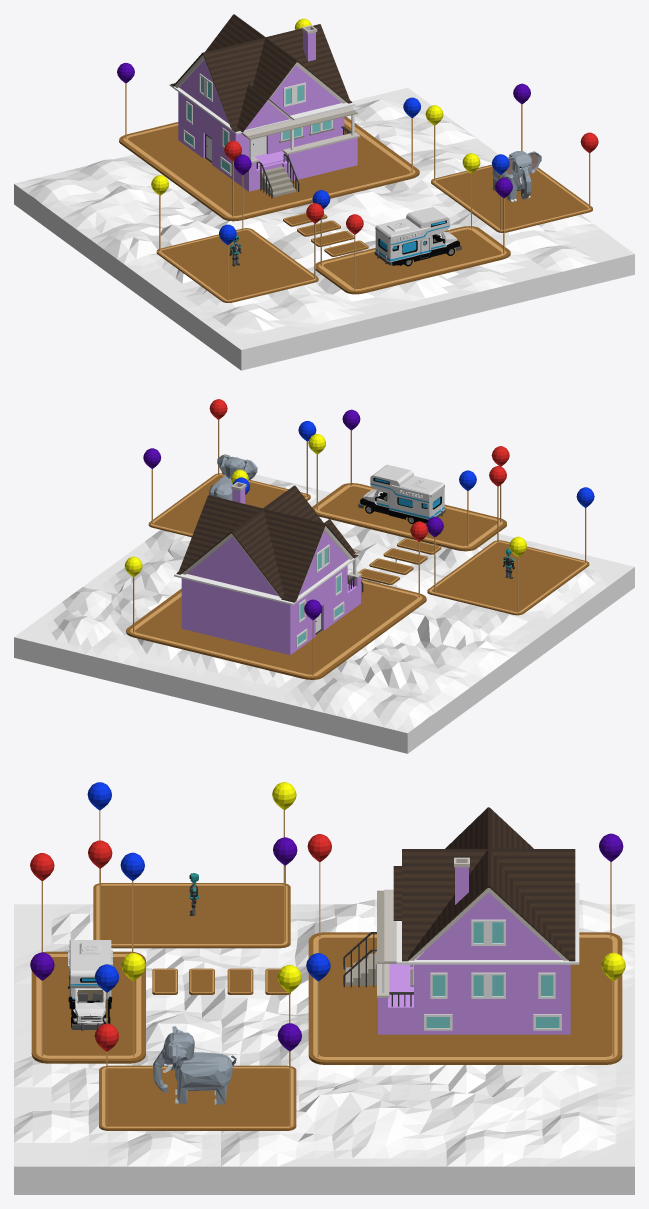
3 views of the same model, one above another, from view 1: azimuth 30°, elevation 25°; view 2: azimuth 150°, elevation 25°; view 3: azimuth 270°, elevation 25° (orthographic). The views are drawn at different scales.
Visible parts, largest first — view 1: Cube.013, Cube.391, VEHICLES_CAMPER, ANIMAL_ELEFANTE; view 2: Cube.013, Cube.391, VEHICLES_CAMPER, ANIMAL_ELEFANTE; view 3: Cube.013, Cube.391, ANIMAL_ELEFANTE, VEHICLES_CAMPER.
Part boxes in pixels (<box>): Cube.013: <box>14,18,634,370</box>; Cube.391: <box>169,14,360,198</box>; VEHICLES_CAMPER: <box>374,207,461,266</box>; ANIMAL_ELEFANTE: <box>492,151,541,202</box>; Cube.013: <box>14,399,634,753</box>; Cube.391: <box>174,482,363,655</box>; VEHICLES_CAMPER: <box>358,464,445,524</box>; ANIMAL_ELEFANTE: <box>209,454,257,500</box>; Cube.013: <box>14,782,634,1194</box>; Cube.391: <box>343,807,579,1034</box>; ANIMAL_ELEFANTE: <box>153,1026,236,1104</box>; VEHICLES_CAMPER: <box>68,940,112,1030</box>.
Size of the model in its own units: 4000 by 1666 by 4000.
Materials: 40 (1 with a texture image).
